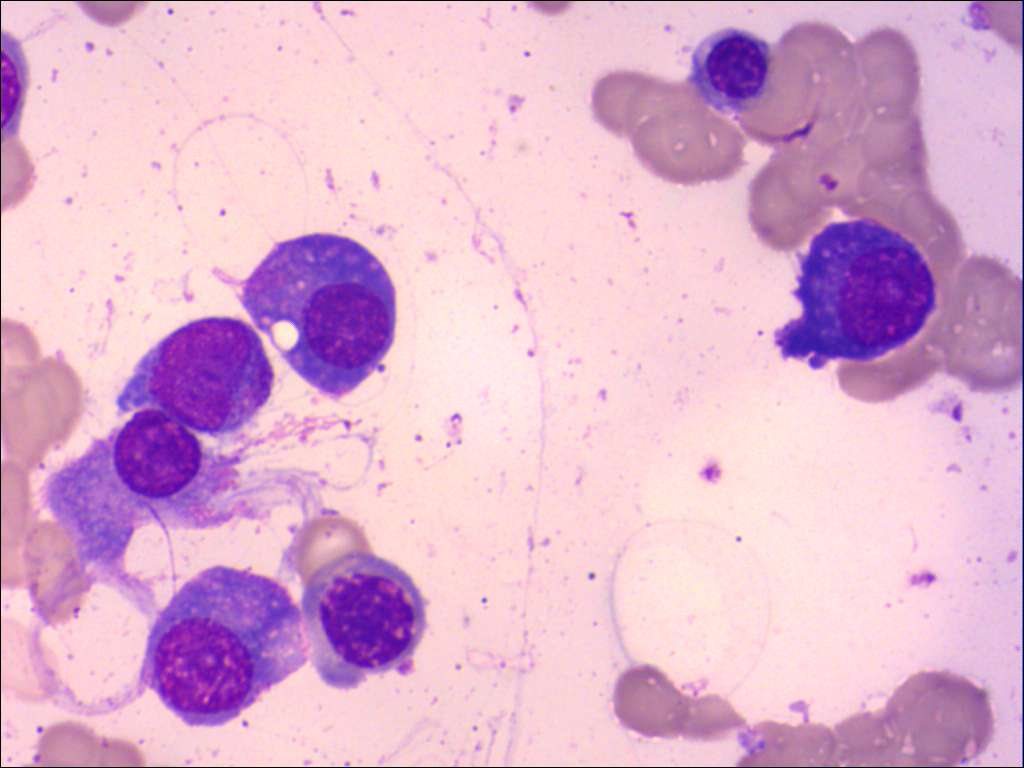23: (296, 548, 431, 693), (684, 22, 778, 118)
51: (135, 563, 312, 732), (237, 229, 400, 405), (772, 213, 940, 373), (112, 314, 277, 440)
x: (38, 404, 248, 570)
